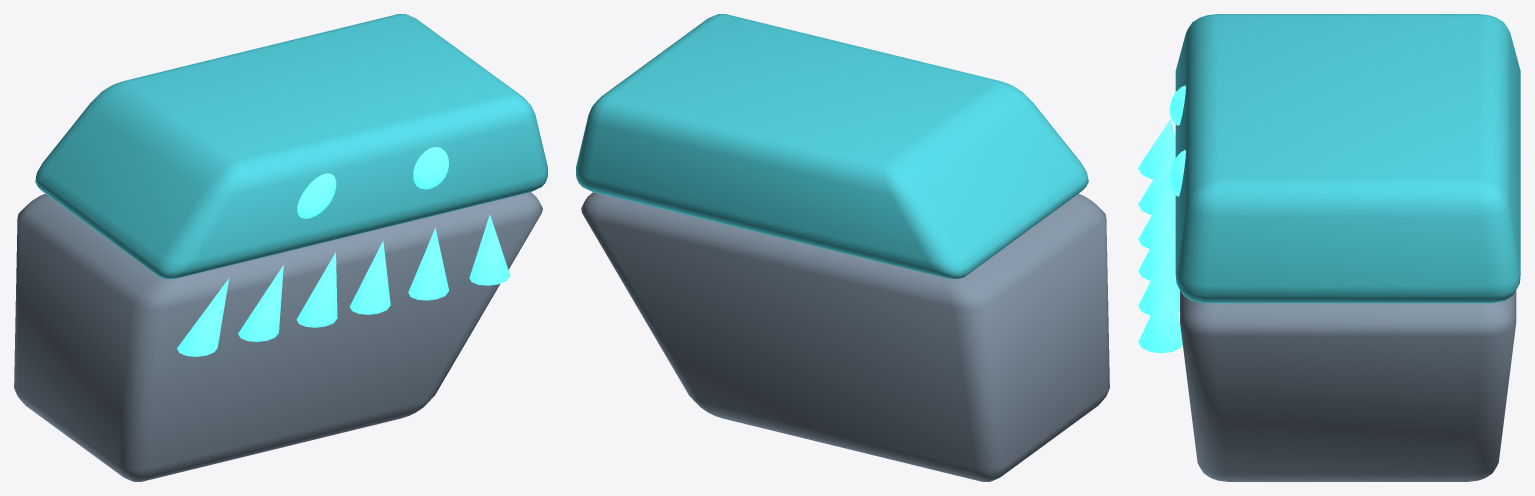
File: mimic_v7.glb
3 renders of one model, left to right at view 1: azimuth 30°, elevation 25°; view 2: azimuth 150°, elevation 25°; view 3: azimuth 270°, elevation 25°, orthographic. The views are drawn at different scales.
Parts seen in each view (by area): view 1: CHEST_PRIMARY, LID_ACCENT, TOOTH_EMISSIVE, TOOTH_EMISSIVE.001, TOOTH_EMISSIVE.002, TOOTH_EMISSIVE.003, TOOTH_EMISSIVE.004, TOOTH_EMISSIVE.005, EYE_EMISSIVE, EYE_EMISSIVE.001; view 2: CHEST_PRIMARY, LID_ACCENT; view 3: LID_ACCENT, CHEST_PRIMARY, TOOTH_EMISSIVE.005, TOOTH_EMISSIVE.004, TOOTH_EMISSIVE.003, TOOTH_EMISSIVE, TOOTH_EMISSIVE.002, TOOTH_EMISSIVE.001, EYE_EMISSIVE.001, EYE_EMISSIVE.
Boxes of the visible parts, x1=… form: CHEST_PRIMARY: x1=14, y1=192, x2=542, y2=481; LID_ACCENT: x1=35, y1=14, x2=547, y2=278; TOOTH_EMISSIVE: x1=177, y1=278, x2=229, y2=356; TOOTH_EMISSIVE.001: x1=238, y1=264, x2=283, y2=341; TOOTH_EMISSIVE.002: x1=296, y1=252, x2=337, y2=327; TOOTH_EMISSIVE.003: x1=350, y1=240, x2=390, y2=314; TOOTH_EMISSIVE.004: x1=408, y1=227, x2=449, y2=300; TOOTH_EMISSIVE.005: x1=469, y1=214, x2=510, y2=285; EYE_EMISSIVE: x1=297, y1=173, x2=336, y2=218; EYE_EMISSIVE.001: x1=413, y1=147, x2=448, y2=189; CHEST_PRIMARY: x1=581, y1=192, x2=1109, y2=481; LID_ACCENT: x1=576, y1=14, x2=1088, y2=278; LID_ACCENT: x1=1175, y1=14, x2=1520, y2=303; CHEST_PRIMARY: x1=1180, y1=290, x2=1516, y2=481; TOOTH_EMISSIVE.005: x1=1138, y1=273, x2=1182, y2=353; TOOTH_EMISSIVE.004: x1=1138, y1=241, x2=1179, y2=315; TOOTH_EMISSIVE.003: x1=1138, y1=210, x2=1175, y2=280; TOOTH_EMISSIVE: x1=1138, y1=118, x2=1175, y2=178; TOOTH_EMISSIVE.002: x1=1138, y1=184, x2=1175, y2=249; TOOTH_EMISSIVE.001: x1=1138, y1=151, x2=1175, y2=214; EYE_EMISSIVE.001: x1=1169, y1=150, x2=1185, y2=196; EYE_EMISSIVE: x1=1169, y1=85, x2=1185, y2=125.
Bounding box in the file's own units: 1.96 × 1.34 × 1.28.
